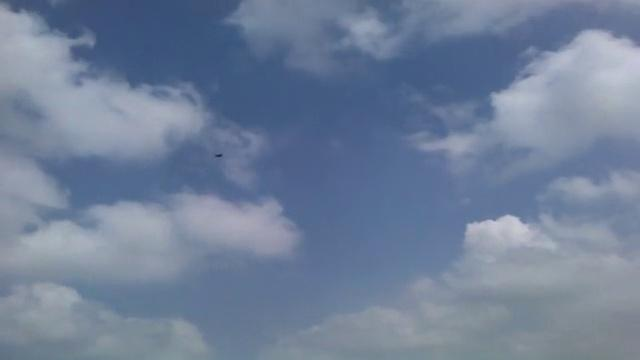drone: (211, 148, 225, 161)
